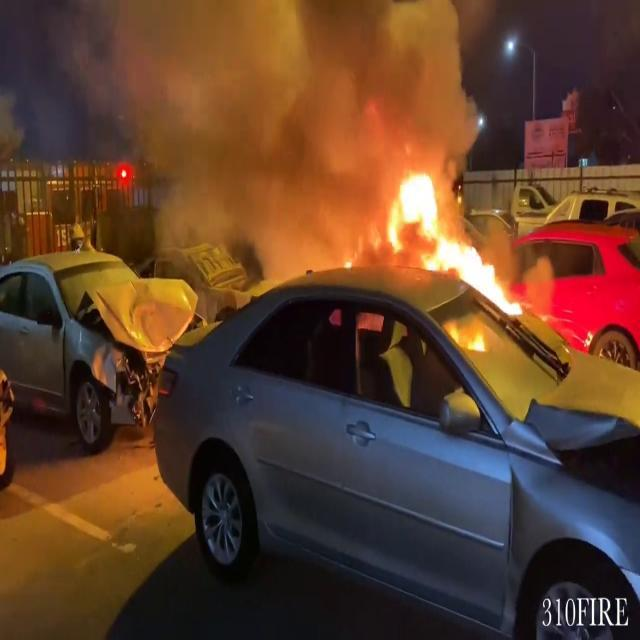Fire: (368, 162, 521, 322)
Smoke: (0, 0, 492, 261)
